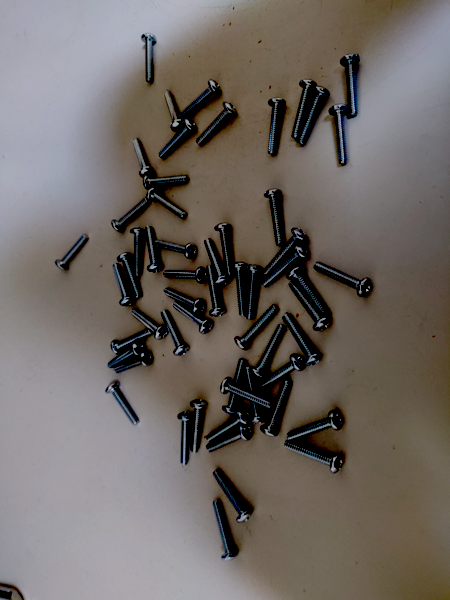longscrew: (284, 440, 345, 479), (281, 313, 328, 361), (178, 78, 227, 122), (292, 270, 334, 320), (212, 470, 252, 522), (264, 247, 309, 293), (312, 264, 375, 296), (265, 228, 306, 277), (234, 303, 278, 348), (192, 106, 238, 149), (221, 372, 274, 409), (208, 498, 239, 561), (297, 87, 329, 147), (258, 382, 292, 437), (252, 325, 285, 381), (286, 284, 327, 328), (289, 412, 345, 444), (258, 355, 305, 392), (158, 119, 197, 160), (218, 357, 246, 414), (107, 378, 139, 427), (264, 95, 288, 159), (293, 77, 317, 141), (329, 104, 353, 168), (341, 51, 365, 115), (205, 410, 249, 444), (261, 189, 285, 249), (170, 303, 213, 336), (163, 285, 206, 318), (206, 427, 255, 455), (160, 310, 189, 356), (122, 310, 169, 338), (244, 363, 265, 425), (110, 201, 147, 236), (55, 233, 88, 272), (144, 190, 186, 219), (204, 240, 229, 285), (217, 221, 237, 277), (111, 351, 155, 376), (102, 342, 146, 367), (107, 328, 151, 353), (139, 229, 163, 272), (205, 268, 226, 317), (173, 413, 192, 467), (163, 265, 207, 288), (153, 234, 197, 257), (118, 255, 142, 297), (110, 262, 133, 305), (244, 265, 261, 322), (123, 229, 146, 271), (188, 398, 205, 451), (139, 34, 156, 84), (133, 134, 152, 178), (234, 259, 247, 319), (166, 83, 178, 134), (145, 176, 194, 183)
